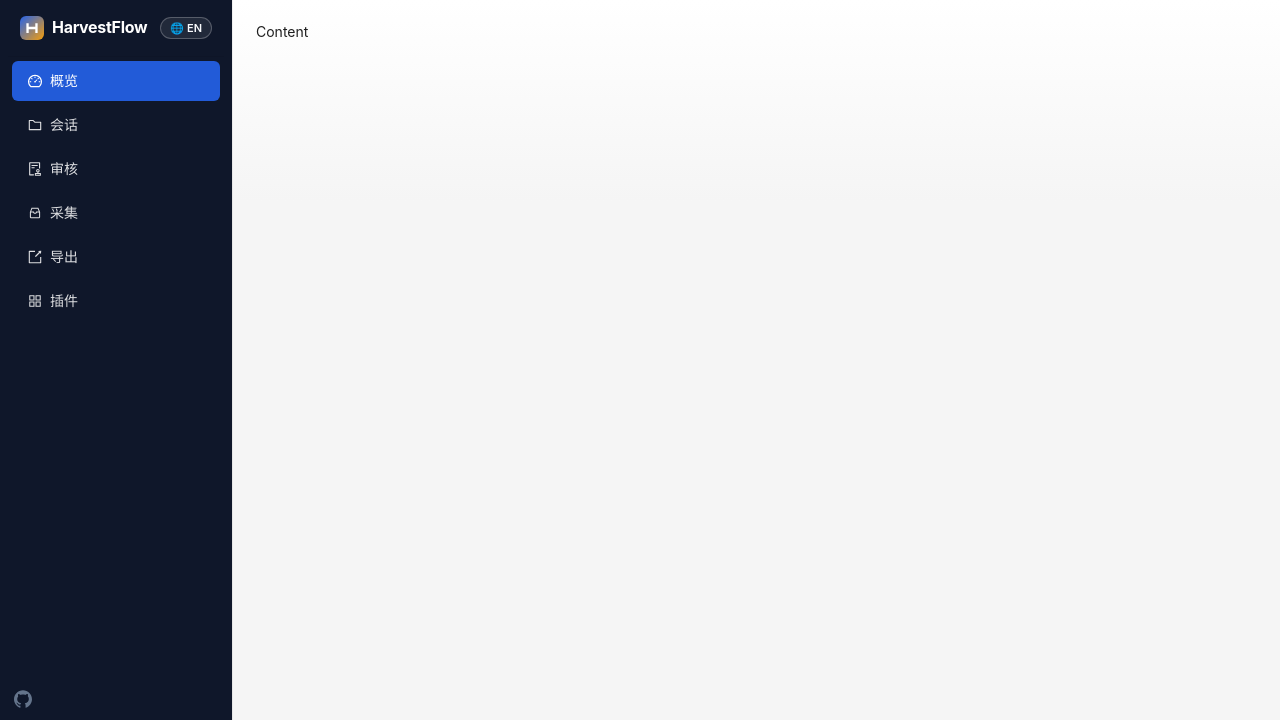
Test: i18n bilingual switching (zh <-> en) › renders MainLayout toggle button and switches menu labels between zh and en
Expected: the icon "概览" is shown, 50,72 -> 78,89
Expected: the icon "会话" is shown, 50,116 -> 78,133
Click the button with test id "lang-toggle-btn" at (186, 28), box 160,17 -> 212,39
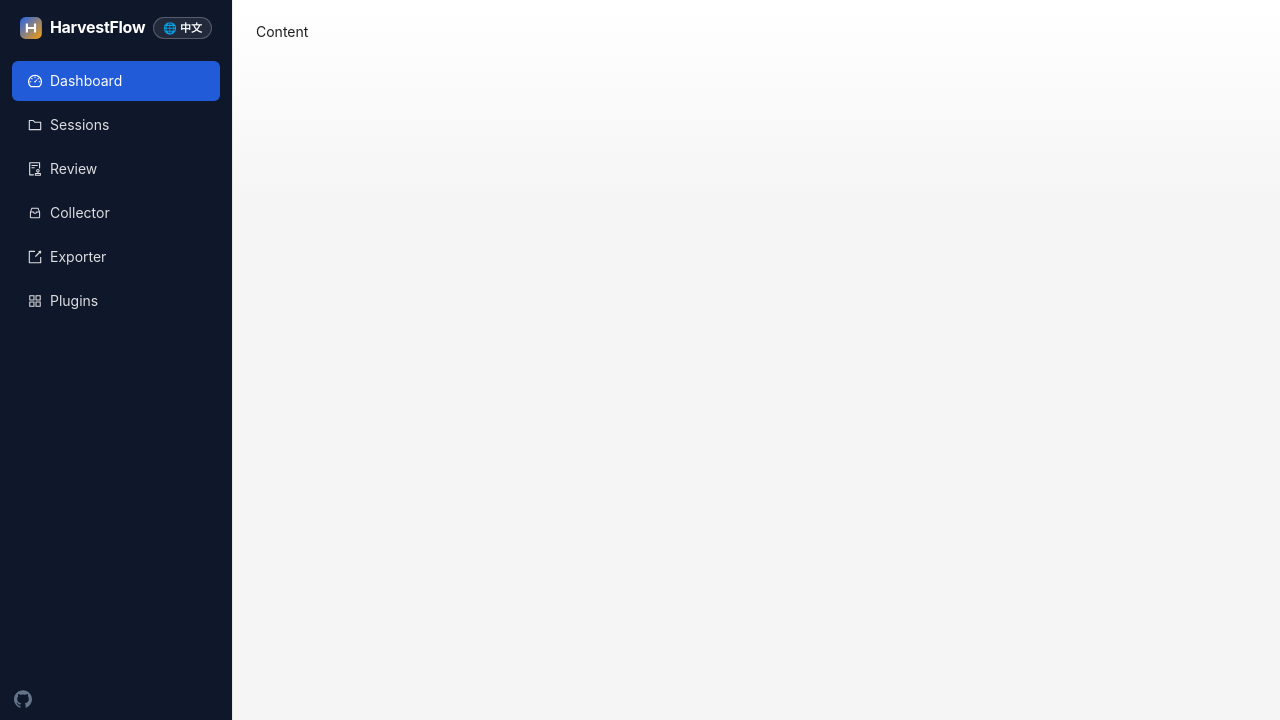
Expected: the button with test id "lang-toggle-btn" shows "中文", 153,17 -> 212,39
Expected: the text "Dashboard" is shown, 50,72 -> 122,89
Expected: the icon "Sessions" is shown, 50,116 -> 109,133
